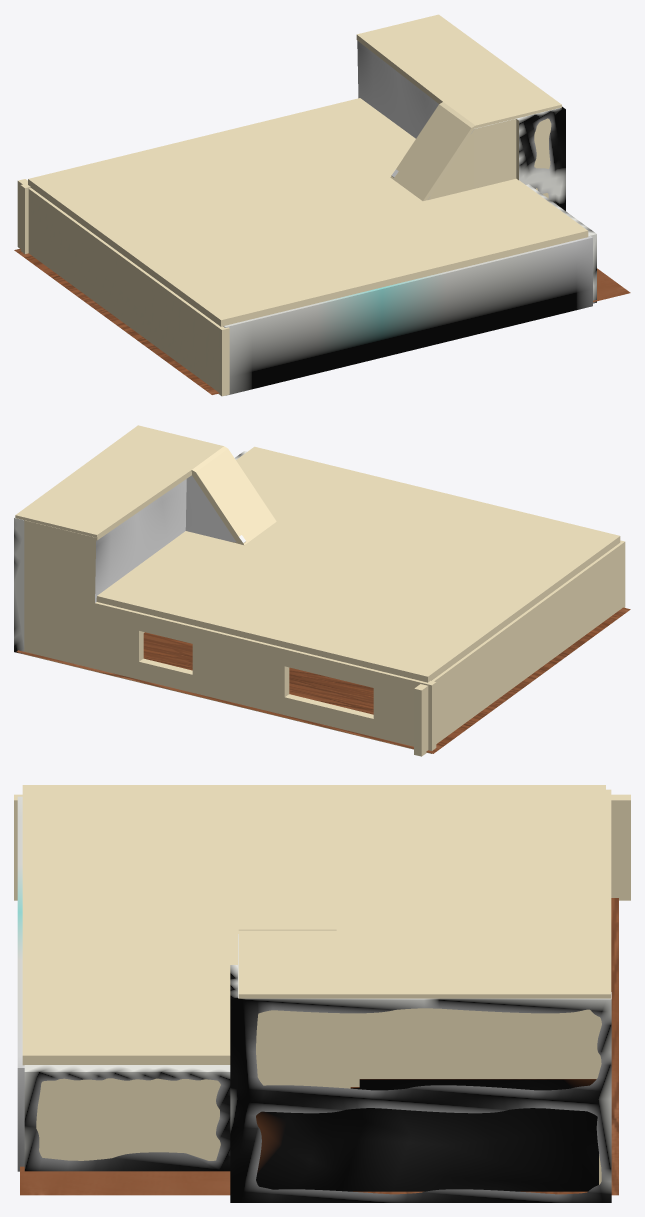
The model's file is finishe h.fbx.
3 views of the same model, one above another, from view 1: azimuth 30°, elevation 25°; view 2: azimuth 150°, elevation 25°; view 3: azimuth 270°, elevation 25° (orthographic). The views are drawn at different scales.
Visible parts, largest first — view 1: roof, front wall, roof 2, Cube, bathroom wall, back wall, left wall, flor; view 2: roof, back wall, roof 2, Cube, flor, left wall; view 3: roof, left wall, stairs, roof 2, flor, Cube, front wall, back wall.
Part boxes in pixels (box(x1,y1,x2,y2)): roof: box(28, 98, 588, 326); front wall: box(223, 236, 592, 395); roof 2: box(356, 14, 561, 200); Cube: box(17, 179, 229, 396); bathroom wall: box(428, 107, 560, 199); back wall: box(20, 41, 438, 253); left wall: box(516, 106, 596, 303); flor: box(14, 248, 630, 394); roof: box(96, 446, 620, 682); back wall: box(24, 475, 436, 753); roof 2: box(15, 425, 276, 545); Cube: box(414, 540, 625, 756); flor: box(16, 607, 630, 753); left wall: box(14, 451, 246, 654); roof: box(22, 785, 605, 1065); left wall: box(24, 965, 611, 1202); stairs: box(256, 1079, 598, 1191); roof 2: box(238, 929, 610, 998); flor: box(20, 898, 618, 1195); Cube: box(14, 794, 630, 900); front wall: box(17, 796, 24, 1171); back wall: box(598, 789, 611, 1184).
Size of the model in its own units: 1800 by 1504 by 560.
Materials: 1 (1 with a texture image).
